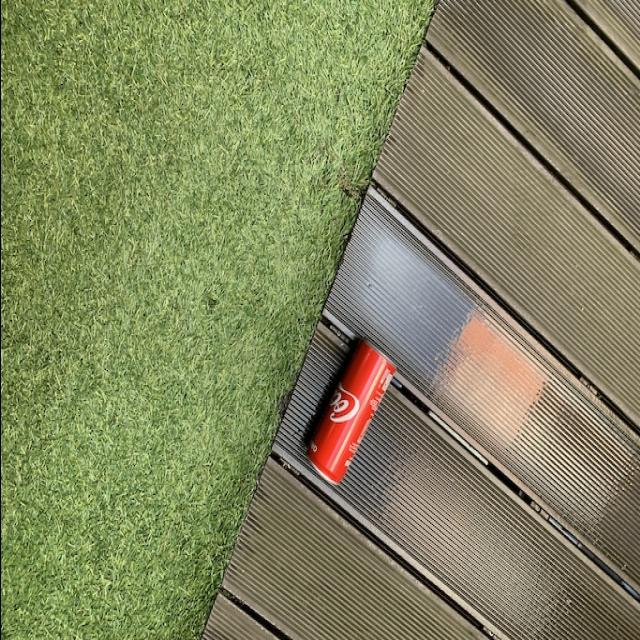Aluminum Can: (302, 338, 394, 488)
